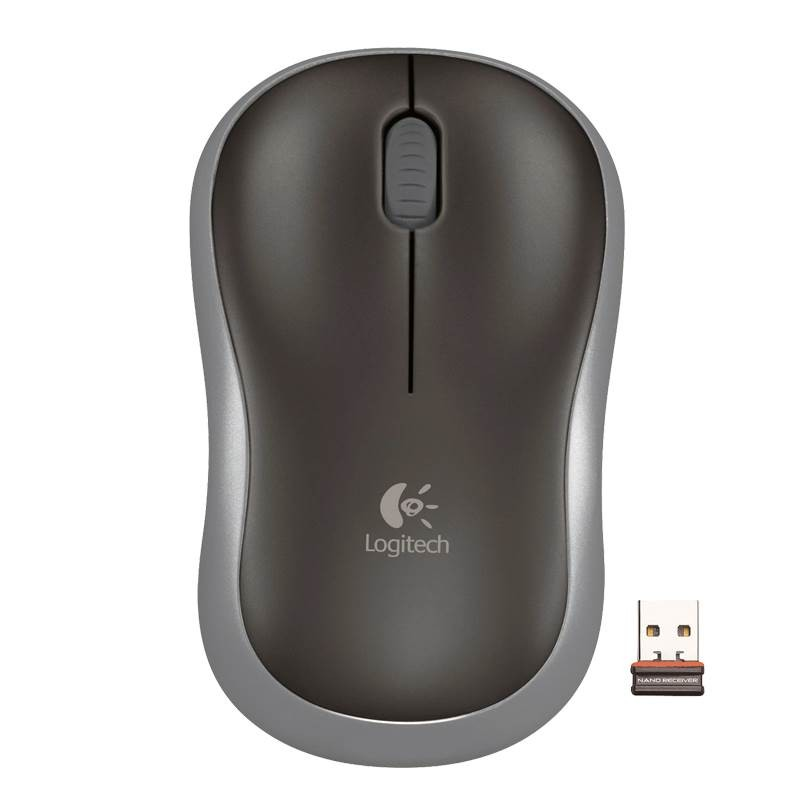logitech-mouse-m185: (192, 53, 626, 776)
